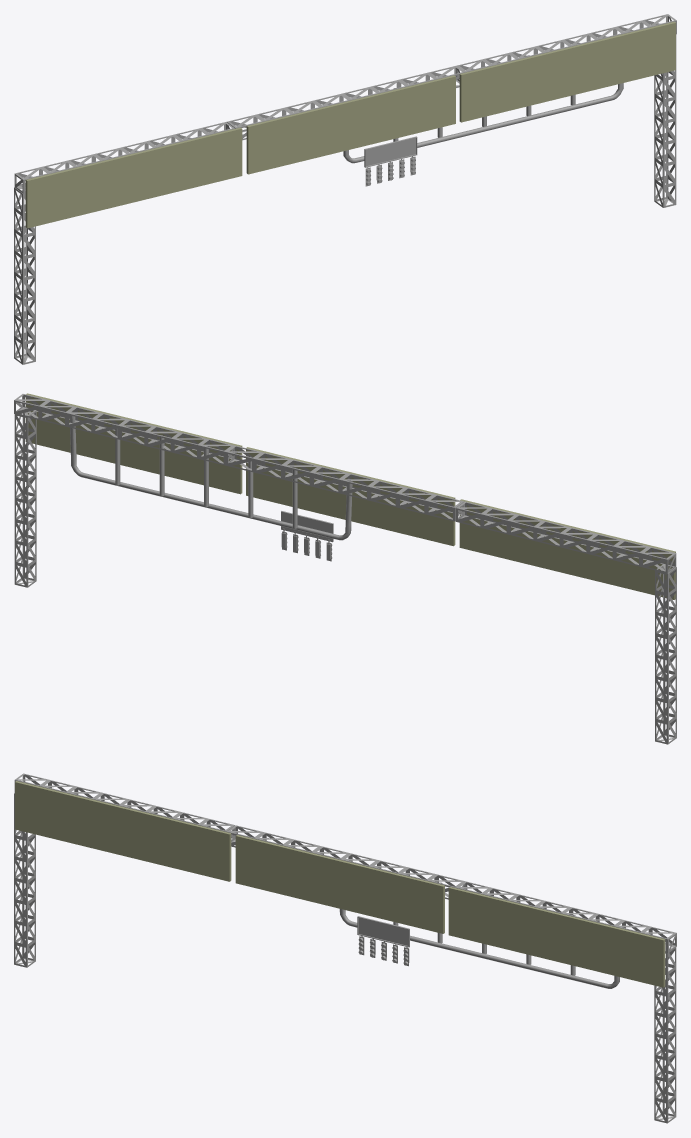
The model's file is MOD_FinishLine.fbx.
The picture shows the model from 3 angles, top to bottom: view 1: azimuth 30°, elevation 25°; view 2: azimuth 150°, elevation 25°; view 3: azimuth 330°, elevation 25°; orthographic projection.
Visible parts, largest first — view 1: MOD_FinishLine_LOD0; view 2: MOD_FinishLine_LOD0; view 3: MOD_FinishLine_LOD0.
Boxes of the visible parts, x1=… form: MOD_FinishLine_LOD0: x1=14, y1=14, x2=676, y2=364; MOD_FinishLine_LOD0: x1=14, y1=393, x2=676, y2=744; MOD_FinishLine_LOD0: x1=14, y1=773, x2=676, y2=1123.
Size of the model in its own units: 3294 by 889 by 93.56.
